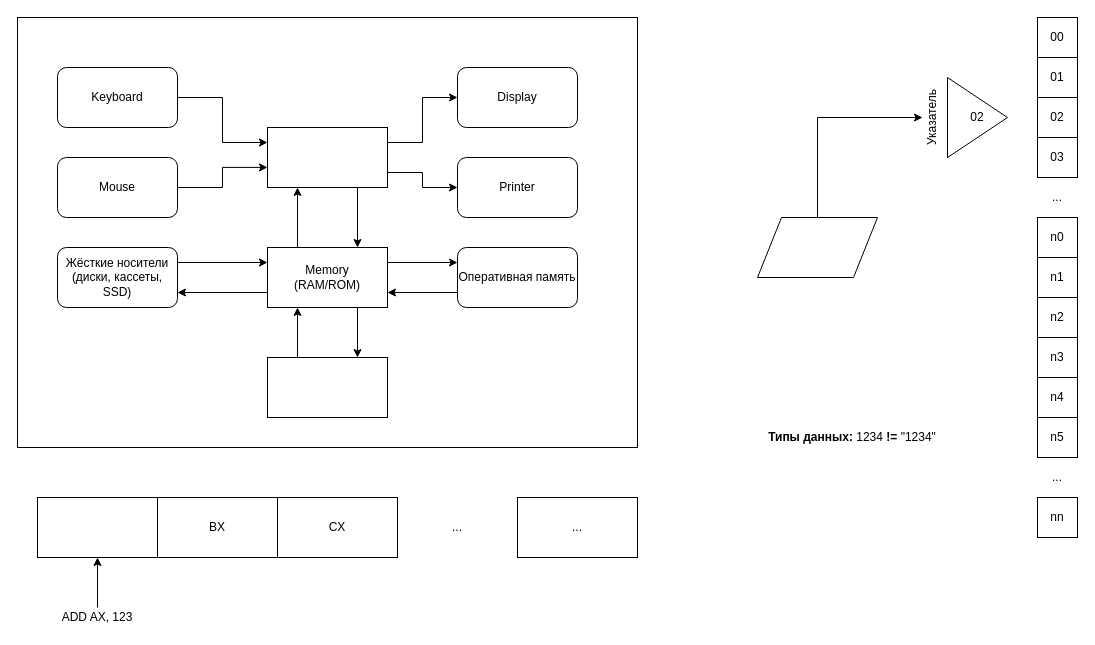
Some shapes in this 1095 by 645 pixel diagram are drawn without their labels. The box of each missing label's shape, as (x1, y1, x2, y2) in pixels:
AX: (36, 496, 158, 558)
CPU: (266, 356, 388, 418)
I/O: (266, 126, 388, 188)
Переменная: (756, 216, 878, 278)
